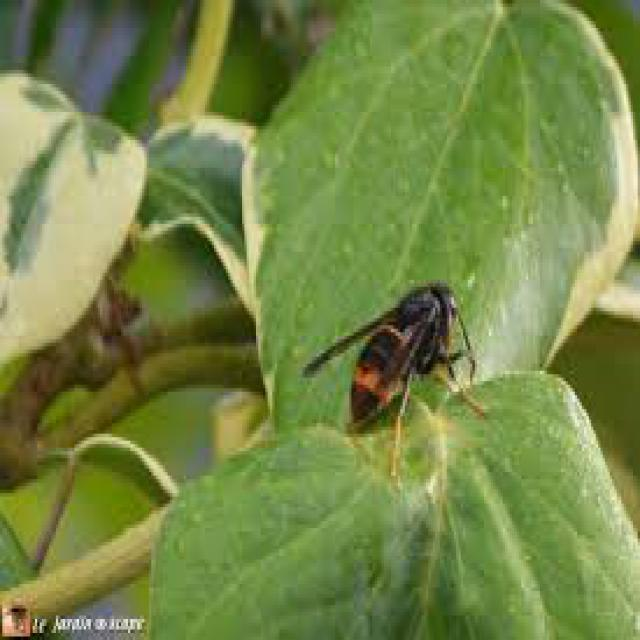Vespa Velutina: (296, 277, 496, 490)
